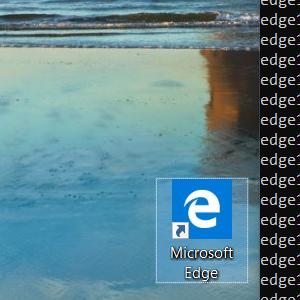edge: (172, 178, 231, 238)
